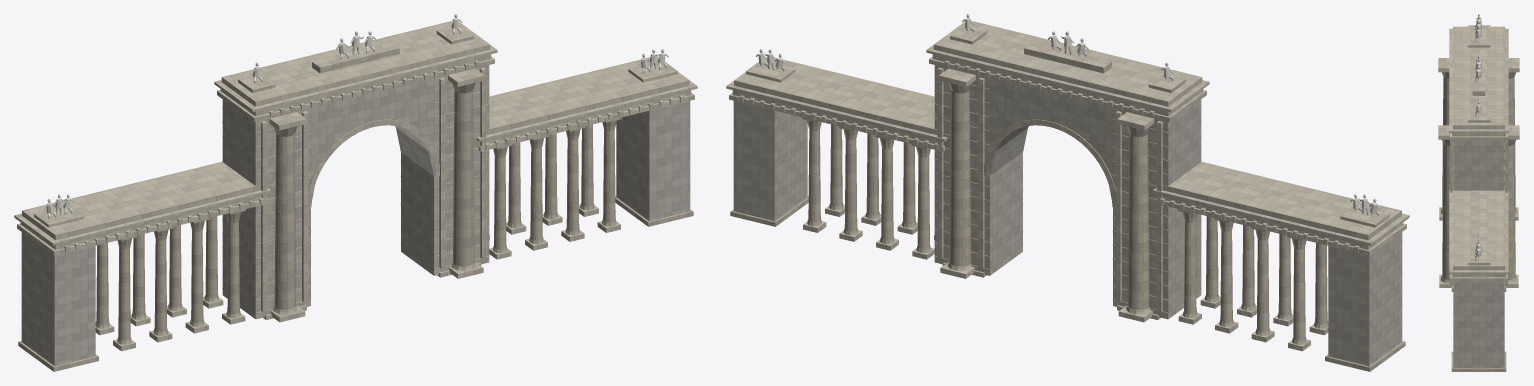
3 renders of one model, left to right at view 1: azimuth 30°, elevation 25°; view 2: azimuth 150°, elevation 25°; view 3: azimuth 270°, elevation 25°, orthographic. The views are drawn at different scales.
Parts seen in each view (by area): view 1: gate__cutstone, gate__cornice, gate__stone, gate__trim, gate__crest, gate__sculpture, gate__base; view 2: gate__cutstone, gate__cornice, gate__stone, gate__trim, gate__crest, gate__sculpture, gate__base; view 3: gate__cornice, gate__cutstone, gate__stone, gate__trim, gate__crest, gate__sculpture, gate__base.
Part boxes in pixels (left/top/right/bottom): gate__cutstone: left=21, top=65, right=690, bottom=366; gate__cornice: left=14, top=21, right=697, bottom=255; gate__stone: left=96, top=90, right=615, bottom=340; gate__trim: left=95, top=67, right=621, bottom=351; gate__crest: left=34, top=25, right=677, bottom=227; gate__sculpture: left=44, top=14, right=668, bottom=218; gate__base: left=18, top=196, right=693, bottom=371; gate__cutstone: left=733, top=65, right=1402, bottom=366; gate__cornice: left=726, top=21, right=1409, bottom=255; gate__stone: left=808, top=90, right=1327, bottom=340; gate__trim: left=802, top=67, right=1328, bottom=351; gate__crest: left=746, top=25, right=1389, bottom=227; gate__sculpture: left=756, top=14, right=1380, bottom=216; gate__base: left=730, top=196, right=1405, bottom=371; gate__cornice: left=1449, top=26, right=1508, bottom=281; gate__cutstone: left=1453, top=140, right=1504, bottom=367; gate__stone: left=1442, top=77, right=1515, bottom=280; gate__trim: left=1438, top=58, right=1519, bottom=288; gate__crest: left=1467, top=25, right=1490, bottom=265; gate__sculpture: left=1475, top=14, right=1482, bottom=260; gate__base: left=1451, top=286, right=1506, bottom=371.
Bounding box in the file's own units: 62.9 × 23.26 × 8.87.
Materials: 4 (3 with a texture image).
